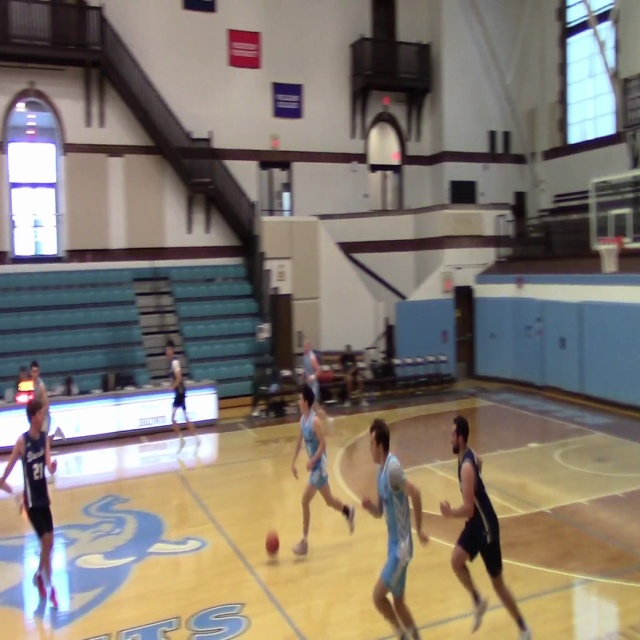Basketball: (265, 530, 279, 555), (48, 459, 57, 474)
